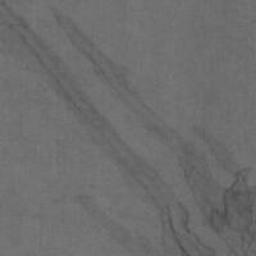Water spot: (0, 0, 225, 256), (49, 4, 256, 256)
